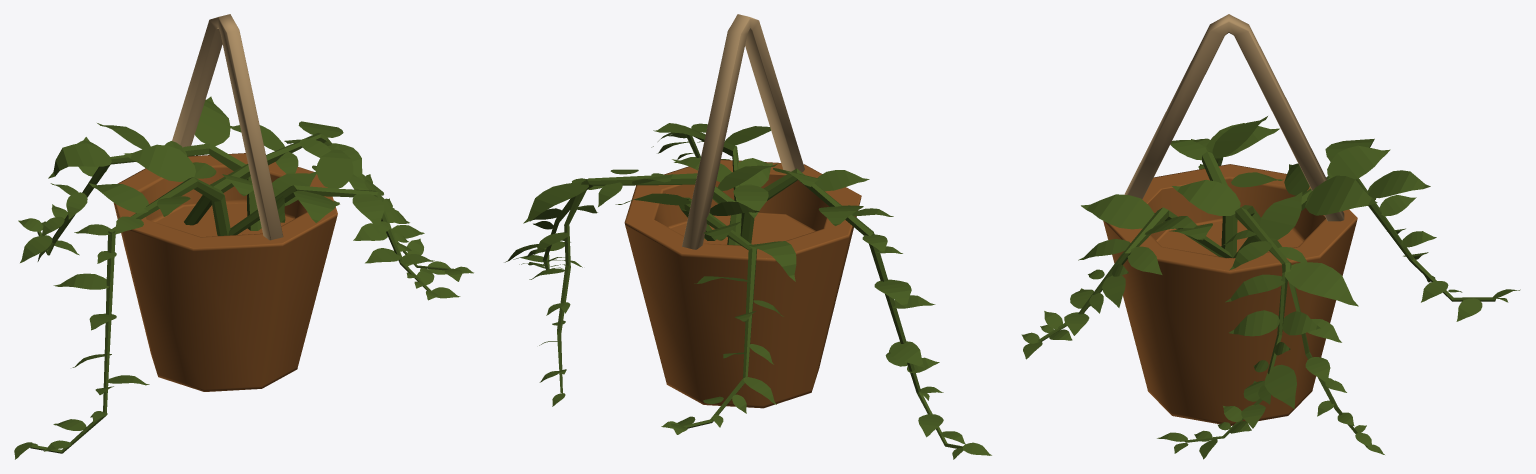
The model's file is hanging_plant.glb.
The picture shows the model from 3 angles, left to right: view 1: azimuth 30°, elevation 25°; view 2: azimuth 150°, elevation 25°; view 3: azimuth 270°, elevation 25°; orthographic projection. The views are drawn at different scales.
Parts seen in each view (by area): view 1: Hanging Pot, Plant4, Plant1, Plant3, Plant2; view 2: Hanging Pot, Plant4, Plant2, Plant3, Plant1; view 3: Hanging Pot, Plant2, Plant3, Plant1, Plant4.
Boxes of the visible parts, <box> form: Hanging Pot: <box>113,14,337,391</box>; Plant4: <box>14,144,230,459</box>; Plant1: <box>228,145,460,300</box>; Plant3: <box>18,96,261,262</box>; Plant2: <box>184,121,473,281</box>; Hanging Pot: <box>624,14,861,408</box>; Plant4: <box>733,168,991,459</box>; Plant2: <box>504,163,778,406</box>; Plant3: <box>615,193,796,434</box>; Plant1: <box>651,123,772,202</box>; Hanging Pot: <box>1103,14,1357,425</box>; Plant2: <box>1157,179,1384,459</box>; Plant3: <box>1233,138,1520,321</box>; Plant1: <box>1021,194,1232,359</box>; Plant4: <box>1170,116,1283,257</box>.
Size of the model in its own units: 0.9534 by 0.7752 by 0.8496.
